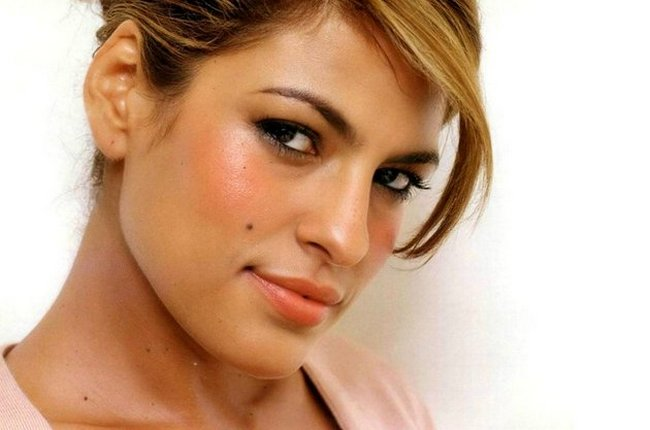mole: (242, 218, 257, 234), (80, 392, 92, 403)
